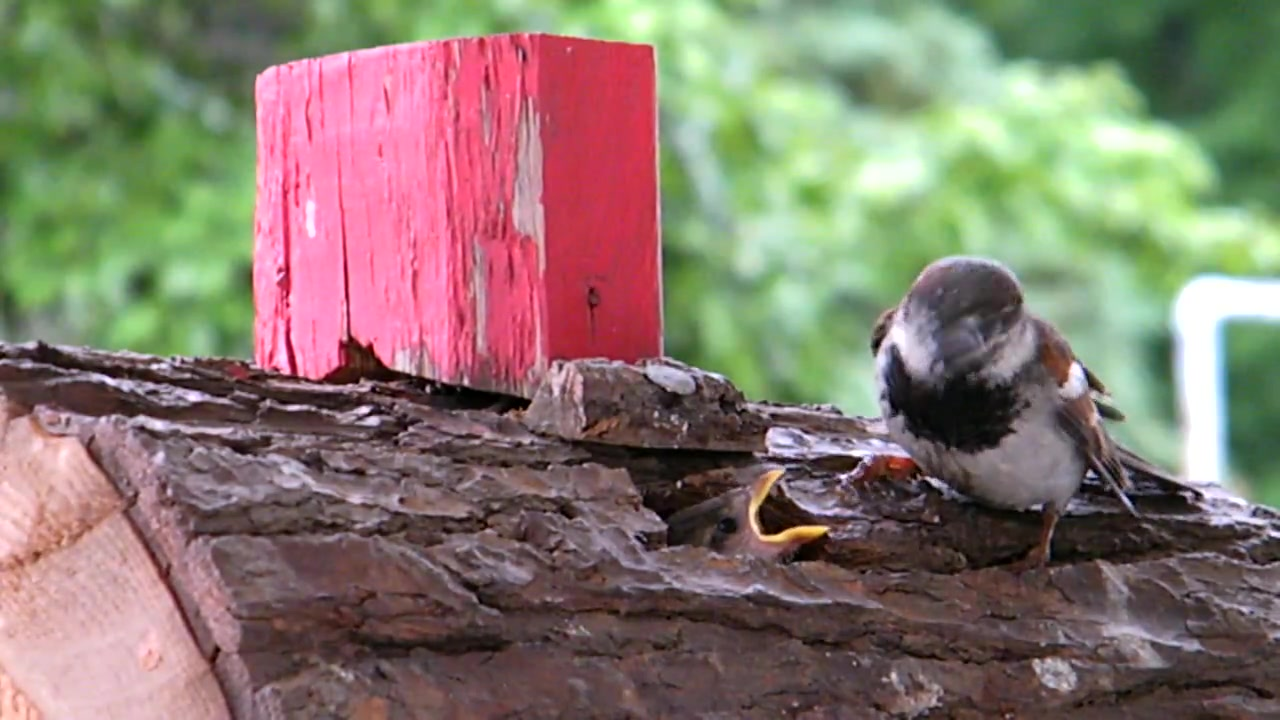bird: (871, 257, 1204, 571)
